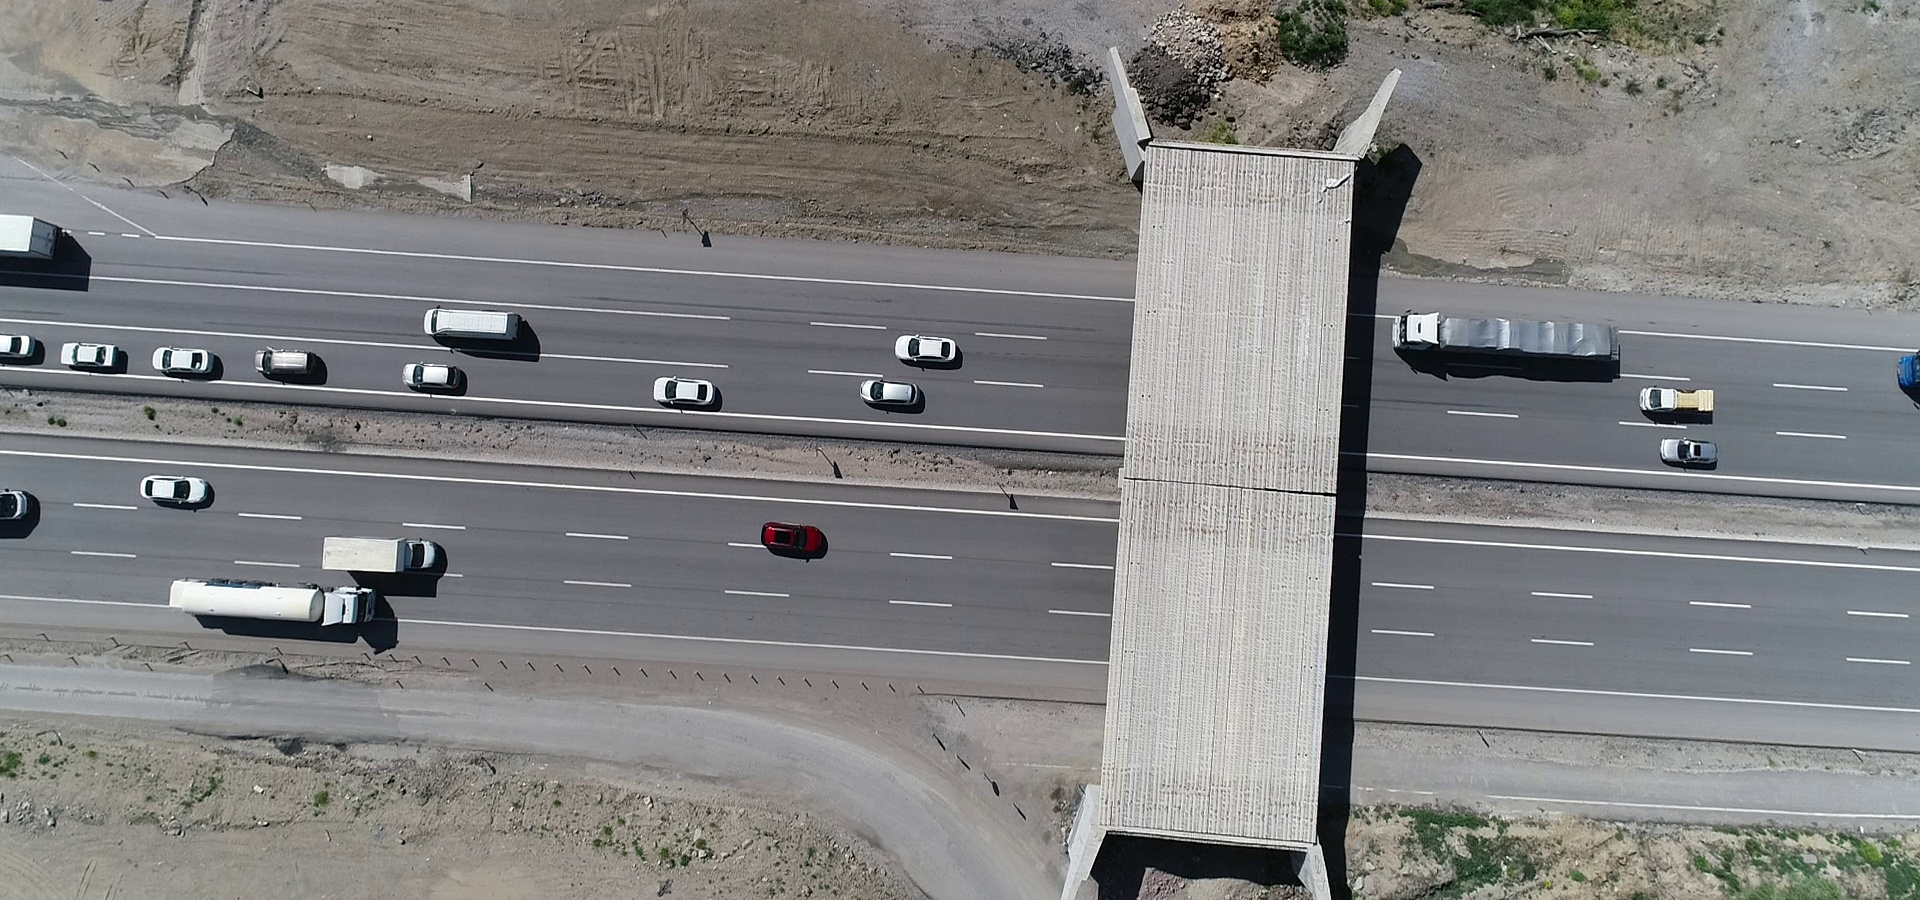araba: (140, 467, 216, 518), (756, 508, 831, 556), (151, 338, 223, 383), (250, 342, 328, 383), (644, 373, 722, 411), (855, 376, 936, 413), (894, 327, 969, 362), (60, 336, 132, 371), (400, 354, 467, 392), (1658, 435, 1727, 467), (1, 471, 36, 528), (1, 326, 48, 365)
kamyon: (1385, 309, 1626, 361), (160, 580, 387, 624), (312, 529, 451, 579), (411, 298, 549, 345), (1, 200, 66, 267)
kamyonet: (1635, 380, 1735, 421)
